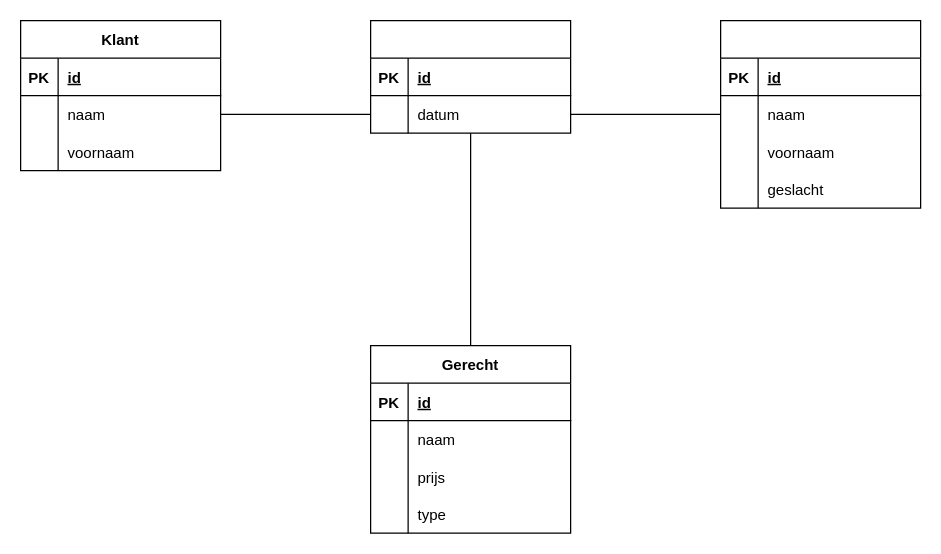
The diagram is 941 pixels wide and 554 high, and some of its shapes have lost their labels. The box of each missing label's shape, as (x1, y1, x2, y2) in pixels:
Bestelling: (369, 19, 571, 133)
Ober: (719, 19, 921, 208)
